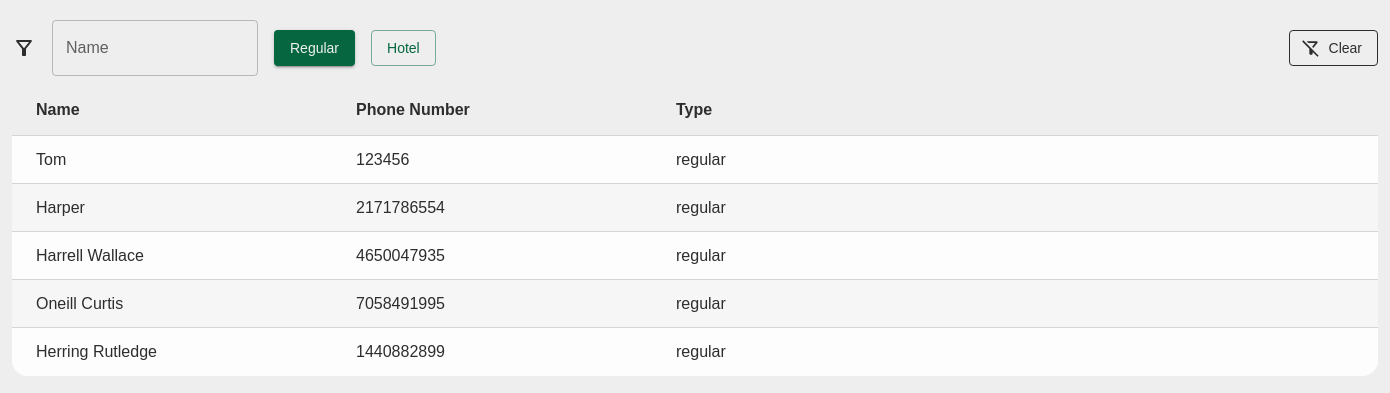
Generic Table component › Table with primary filters › should have clear button remove all filters except those that specify to persist
Click the button "Hotel".
click(403, 48)  # box [371,30,436,66]
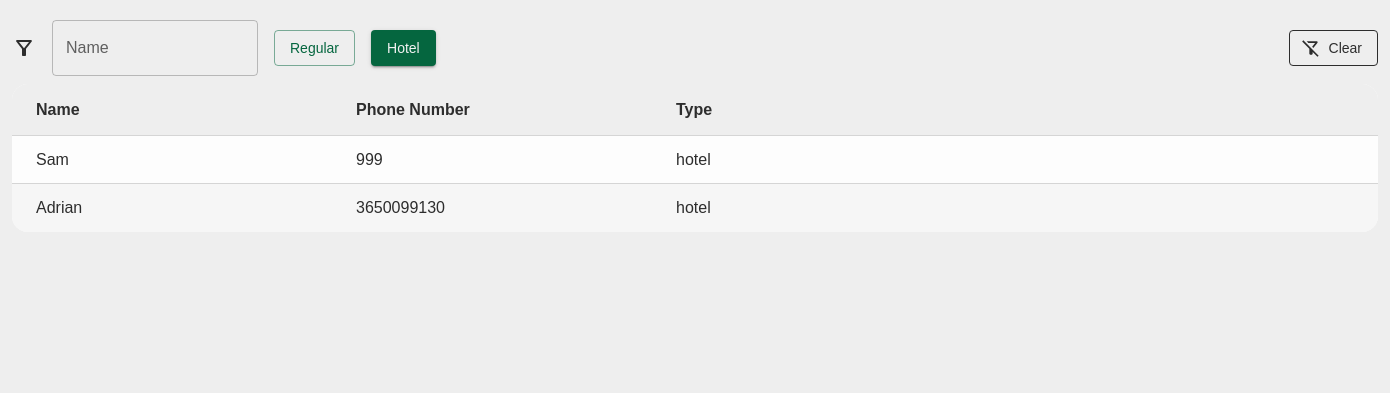
Type "Sam" into the field labelled "Name".
click(155, 48); type("Sam")  # box [52,20,258,76]
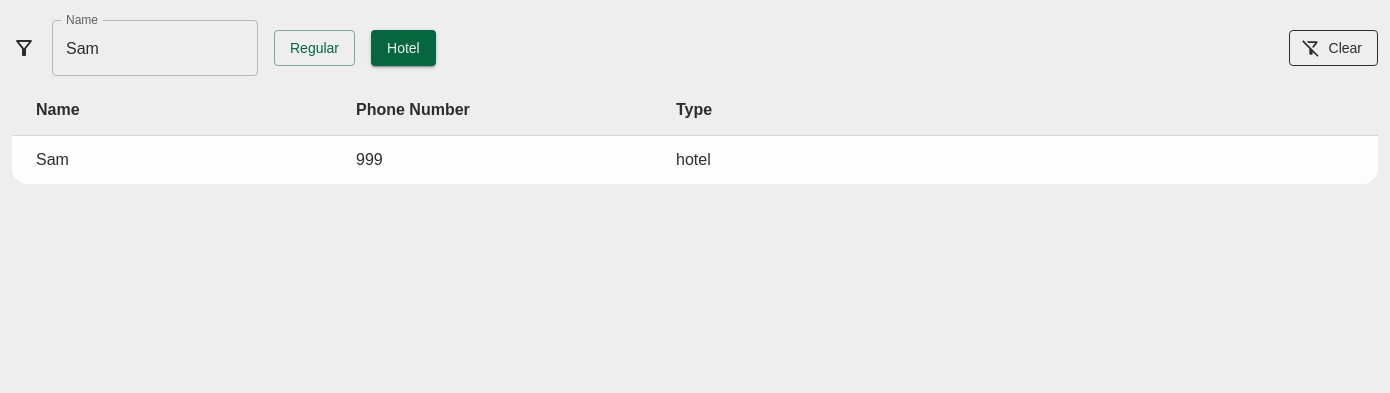
Expected: the text "Tom" is not shown
Now the text "Sam" is shown, box [36,151,69,168]
Now the text "Adrian" is gone
Click the button "Clear".
click(1333, 48)  # box [1288,30,1378,66]
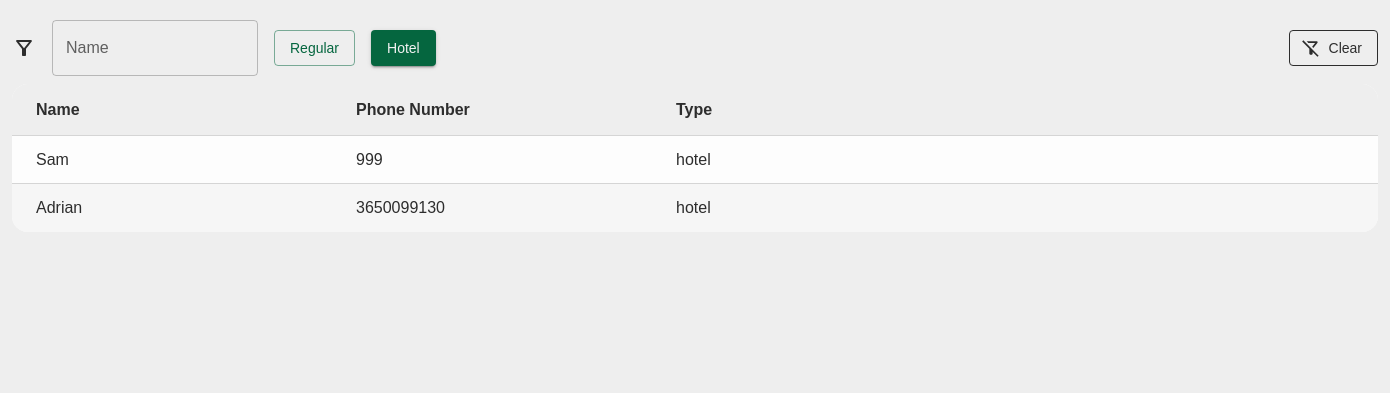
Expected: the text "Tom" is not shown
Now the text "Sam" is shown, box [36,150,69,168]
Now the text "Adrian" is shown, box [36,199,82,216]
